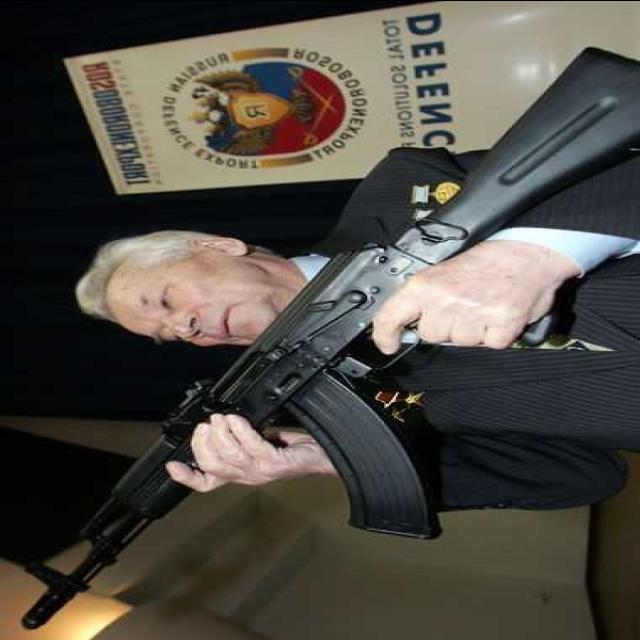heavyweapon: (6, 48, 640, 632)
